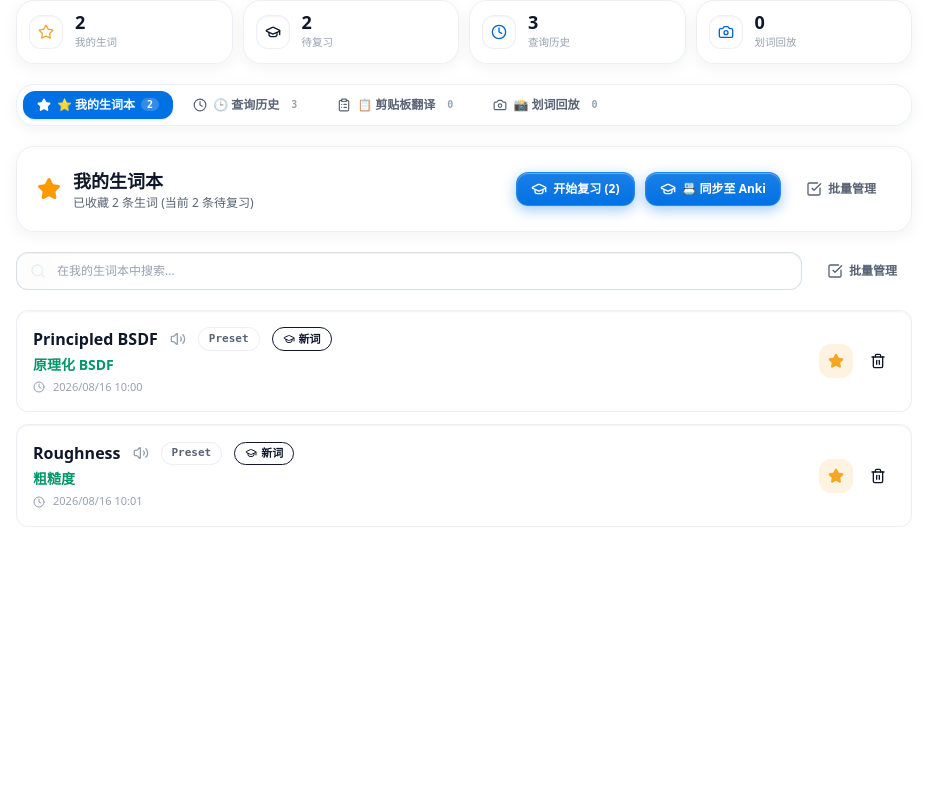
Scenario: vocabulary review mode (Leitner flashcards) › Esc exits the review session
This screenshot has width=929, height=799.
expect the text "Principled BSDF" is shown: met, box [33, 327, 158, 351]
Click the button "开始复习 (2)".
click(575, 189)  # box [516, 172, 634, 206]
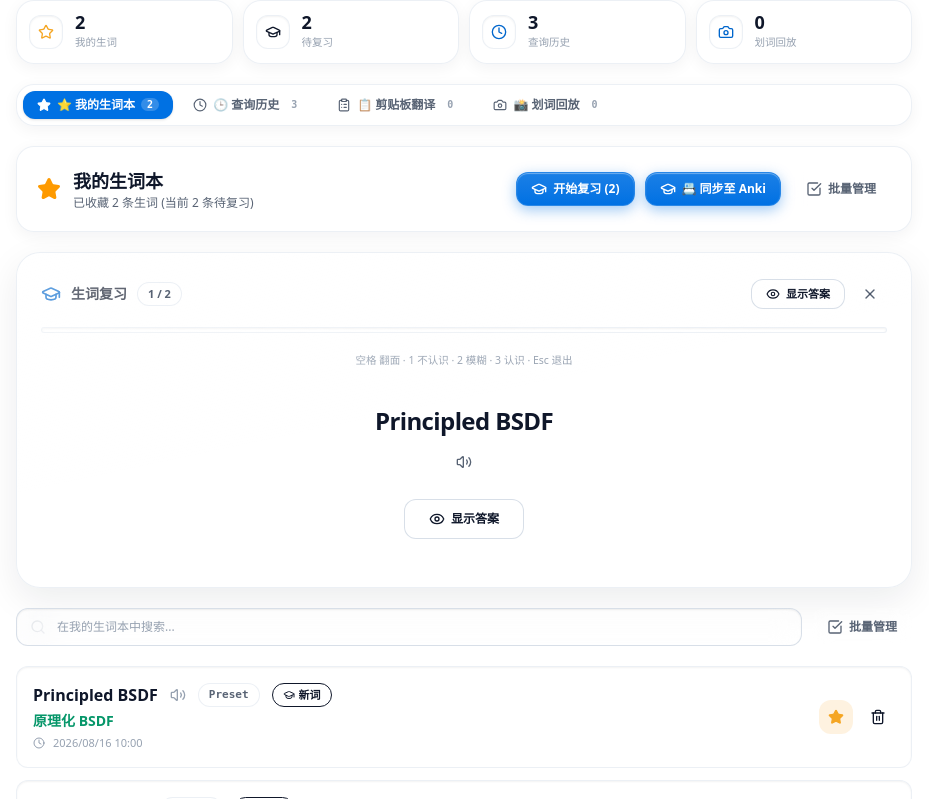
expect the heading "生词复习" is shown: met, box [71, 284, 127, 304]
Press Escape
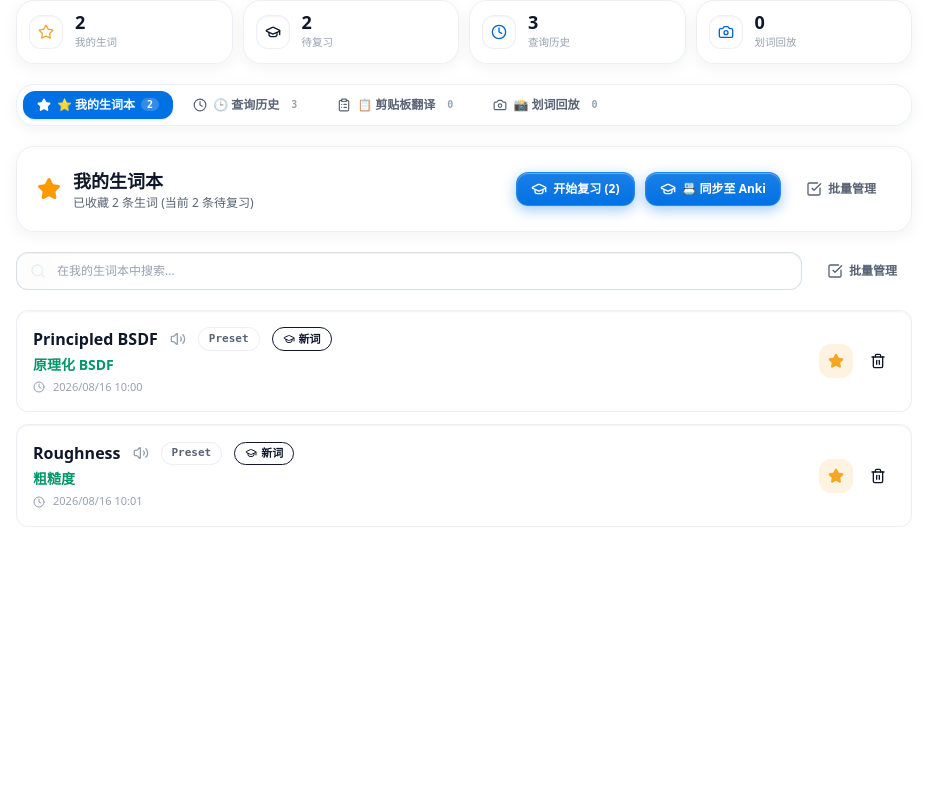
expect the heading "生词复习" is gone: met
